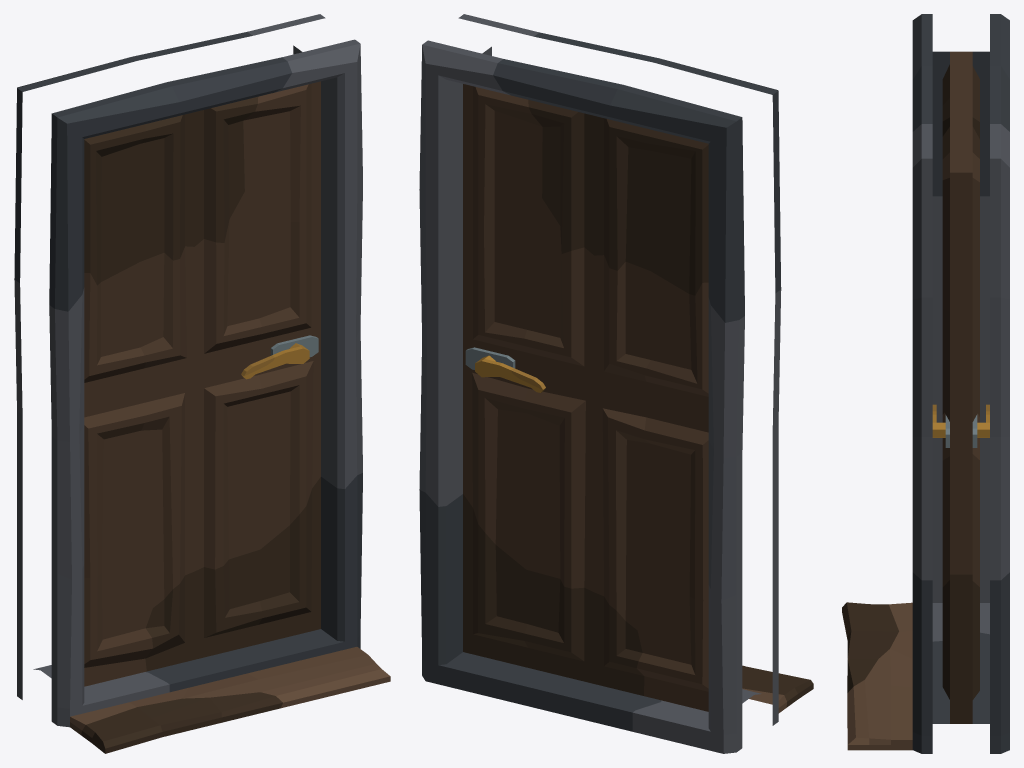
Rendered from SM_Door_A.gltf.
3 views of the same model, side by side, from view 1: azimuth 30°, elevation 25°; view 2: azimuth 150°, elevation 25°; view 3: azimuth 270°, elevation 25° (orthographic). The views are drawn at different scales.
Parts seen in each view (by area): view 1: SM_DoorA, SM_Door_A; view 2: SM_DoorA, SM_Door_A; view 3: SM_Door_A, SM_DoorA.
Boxes of the visible parts, <box> form: SM_DoorA: <box>84,81,320,686</box>; SM_Door_A: <box>14,14,390,753</box>; SM_DoorA: <box>463,84,708,711</box>; SM_Door_A: <box>419,14,813,753</box>; SM_Door_A: <box>842,14,1009,753</box>; SM_DoorA: <box>932,51,989,723</box>.
Size of the model in its own units: 1.22 by 2.31 by 0.5877.
Materials: 1 (1 with a texture image).
